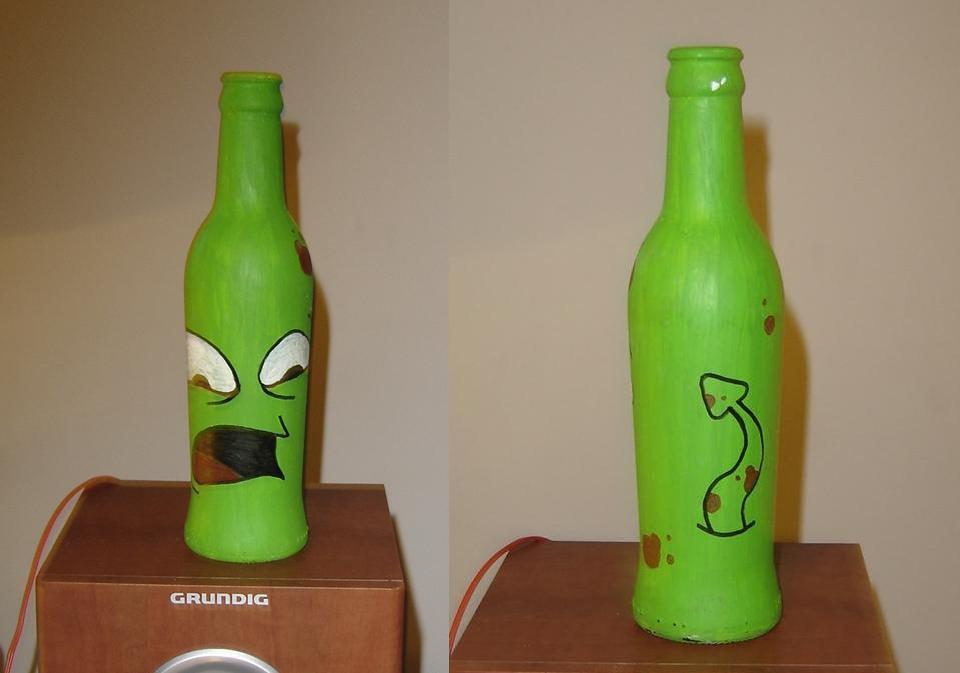bottle: (628, 45, 786, 645), (183, 71, 316, 564)
